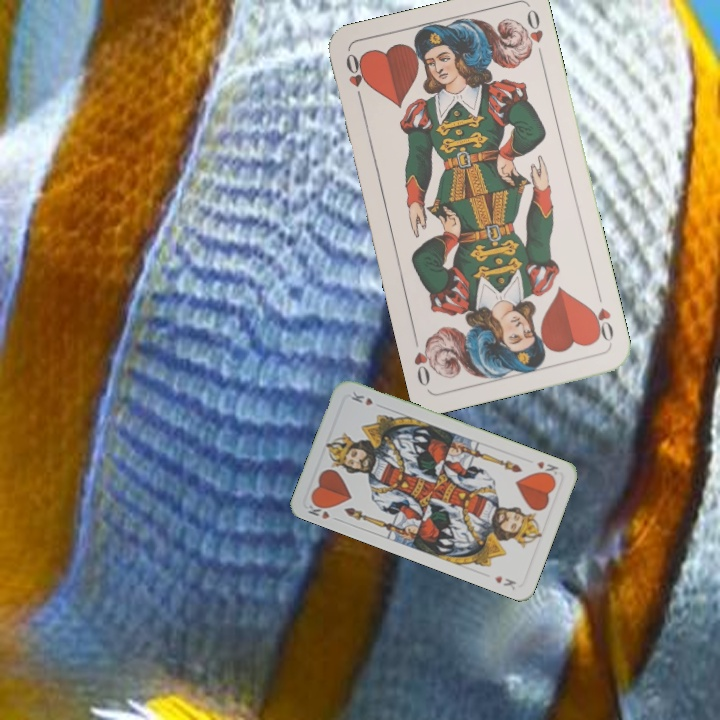HK: (304, 497, 342, 524), (533, 457, 561, 481)
HO: (586, 288, 616, 346), (341, 49, 369, 108)
